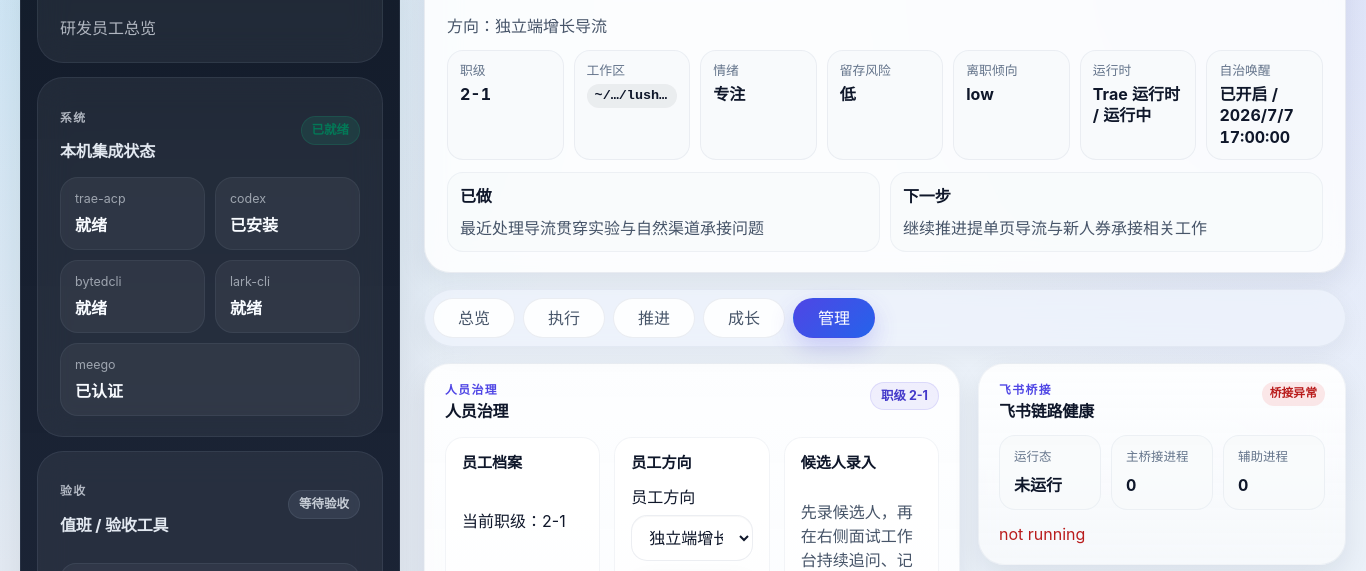
Test case: App › blocks empty Feishu agent binding fields before submitting
Click the tab "管理": [834, 318] box [793,298,875,338]
(page scrolled)
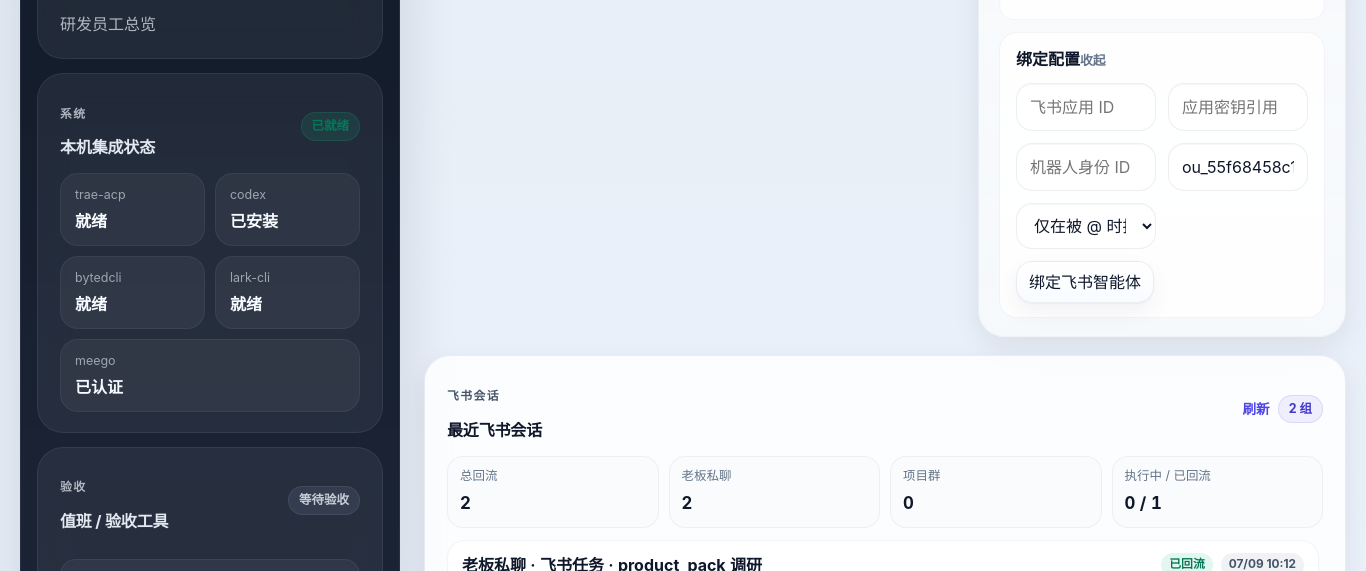
Click the button "绑定飞书智能体": [1085, 282] box [1016,261,1154,303]
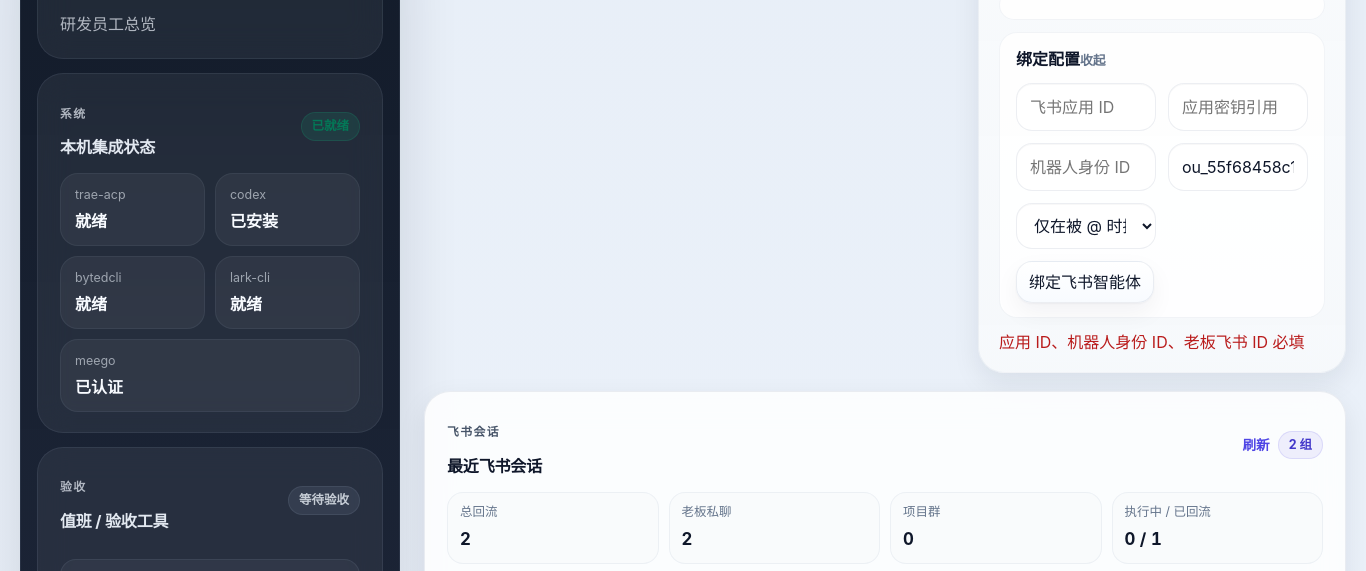
Check: the message reads "应用 ID、机器人身份 ID、老板飞书 ID 必填", box [999,332,1304,352]
